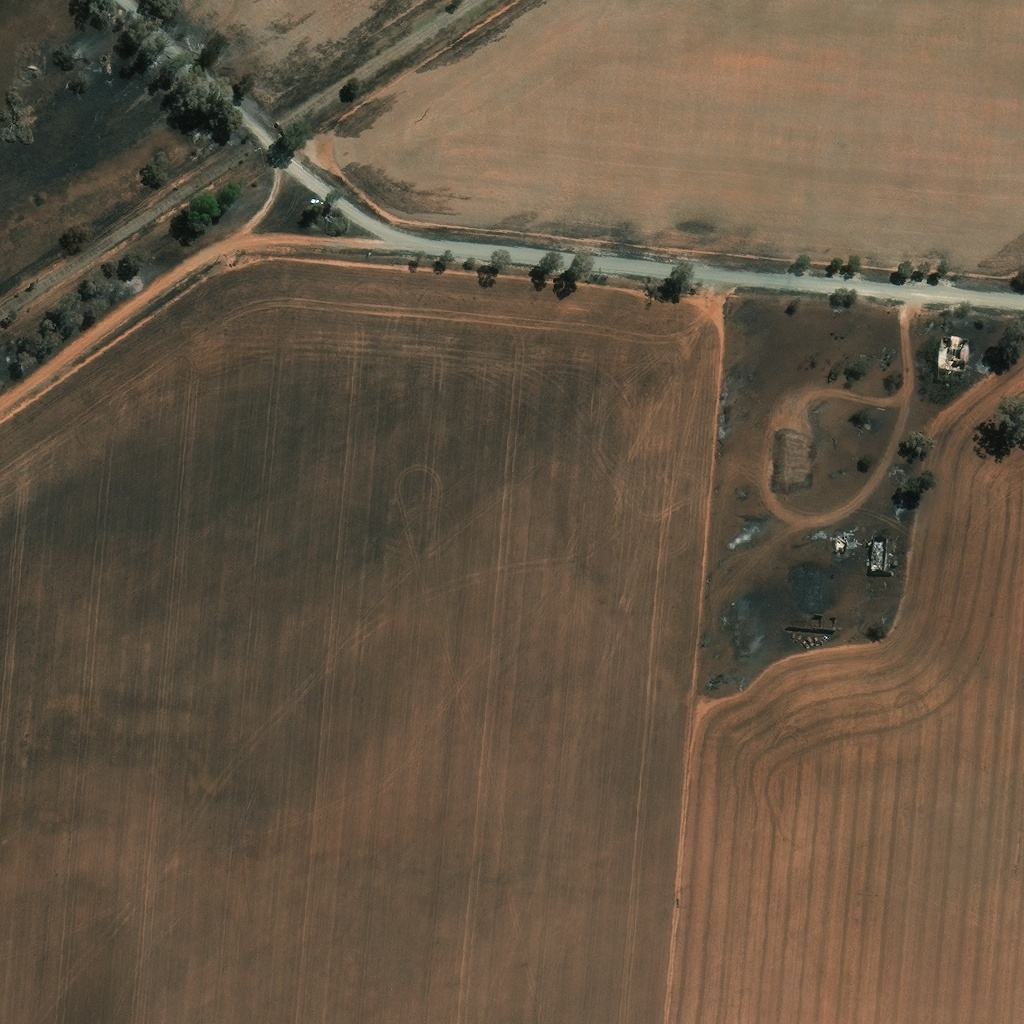3 destroyed: (936, 334, 970, 370), (795, 568, 823, 605), (871, 535, 889, 570), (833, 531, 850, 549), (918, 427, 922, 433)
